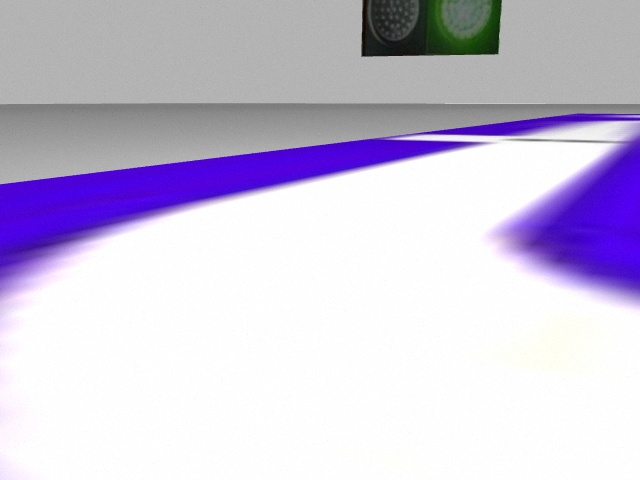green: (429, 1, 502, 55)
